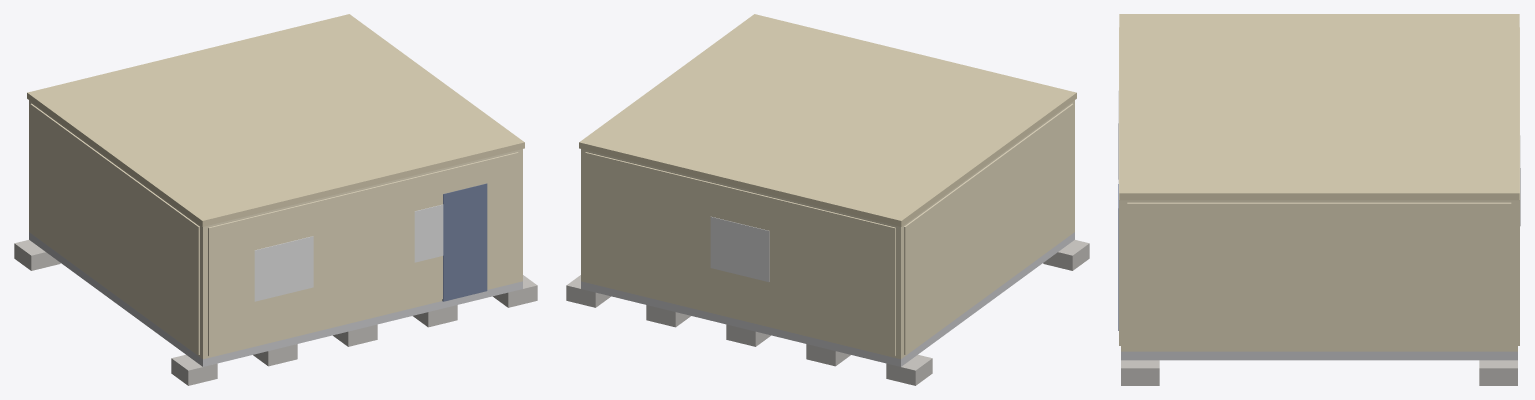
Rendered from Studio-20-Base-MicroGrainYellowSlate-LOD2.glb.
3 renders of one model, left to right at view 1: azimuth 30°, elevation 25°; view 2: azimuth 150°, elevation 25°; view 3: azimuth 270°, elevation 25°, orthographic. The views are drawn at different scales.
Visible parts, largest first — view 1: RoofMain, ExteriorPanelsStandard, EntryDoor, WindowsStandard, FoundationBlocks, ExteriorShell, BaseFrame; view 2: ExteriorPanelsStandard, RoofMain, FoundationBlocks, BaseFrame, ExteriorShell, WindowsStandard; view 3: RoofMain, ExteriorPanelsStandard, ExteriorShell, BaseFrame, FoundationBlocks.
Part boxes in pixels (x1=…): RoofMain: x1=27, y1=14, x2=524, y2=226; ExteriorPanelsStandard: x1=30, y1=103, x2=518, y2=355; EntryDoor: x1=442, y1=183, x2=487, y2=301; WindowsStandard: x1=254, y1=204, x2=443, y2=301; FoundationBlocks: x1=14, y1=240, x2=537, y2=385; ExteriorShell: x1=29, y1=100, x2=522, y2=359; BaseFrame: x1=29, y1=232, x2=522, y2=366; ExteriorPanelsStandard: x1=585, y1=103, x2=1073, y2=355; RoofMain: x1=579, y1=14, x2=1076, y2=226; FoundationBlocks: x1=566, y1=240, x2=1089, y2=385; BaseFrame: x1=581, y1=232, x2=1074, y2=366; ExteriorShell: x1=581, y1=100, x2=1074, y2=359; WindowsStandard: x1=710, y1=216, x2=769, y2=281; RoofMain: x1=1119, y1=14, x2=1519, y2=200; ExteriorPanelsStandard: x1=1119, y1=27, x2=1519, y2=349; ExteriorShell: x1=1121, y1=200, x2=1517, y2=351; BaseFrame: x1=1121, y1=351, x2=1517, y2=360; FoundationBlocks: x1=1121, y1=360, x2=1517, y2=385.
Bounding box in the file's own units: 7.14 × 3.17 × 6.24.
